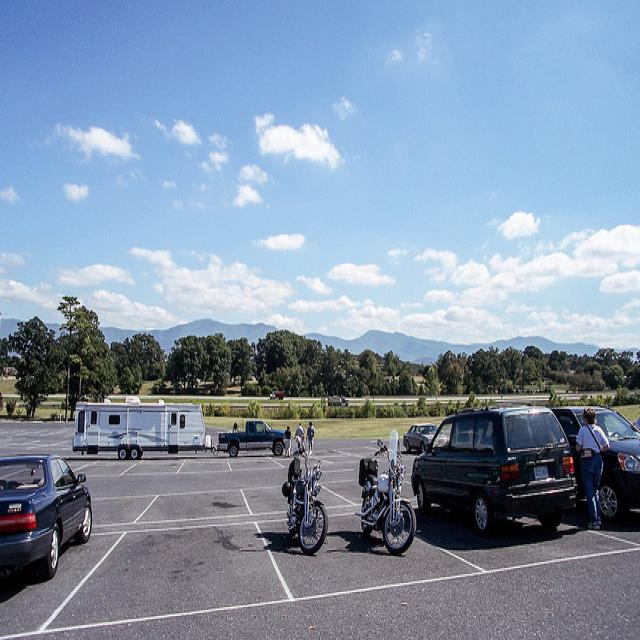motor: (352, 425, 419, 559), (282, 436, 328, 555)
